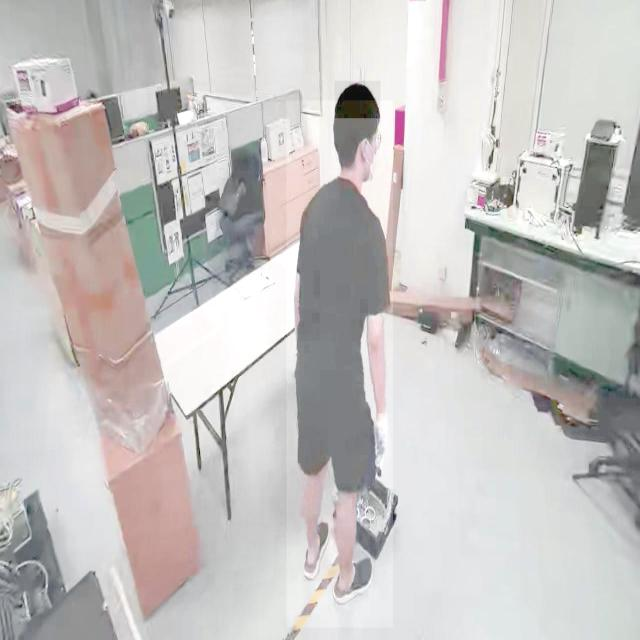hand_glove: (372, 408, 389, 471)
head_nohelmet: (334, 81, 380, 119)
person: (286, 101, 393, 628)
shoes: (331, 550, 378, 603), (302, 516, 332, 582)
